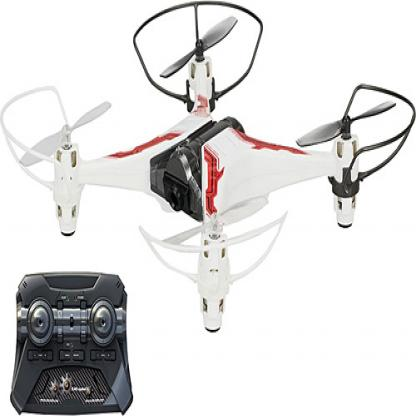drone: (3, 8, 415, 313)
